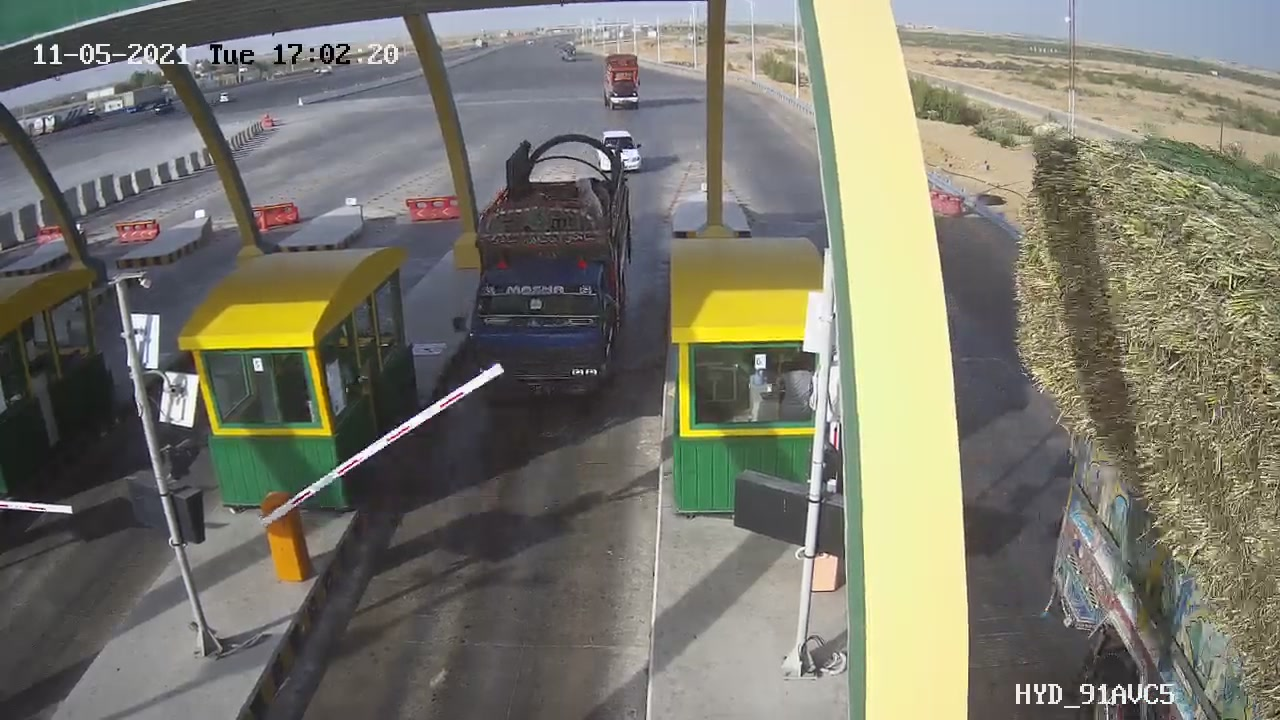F5: (442, 126, 664, 422)
